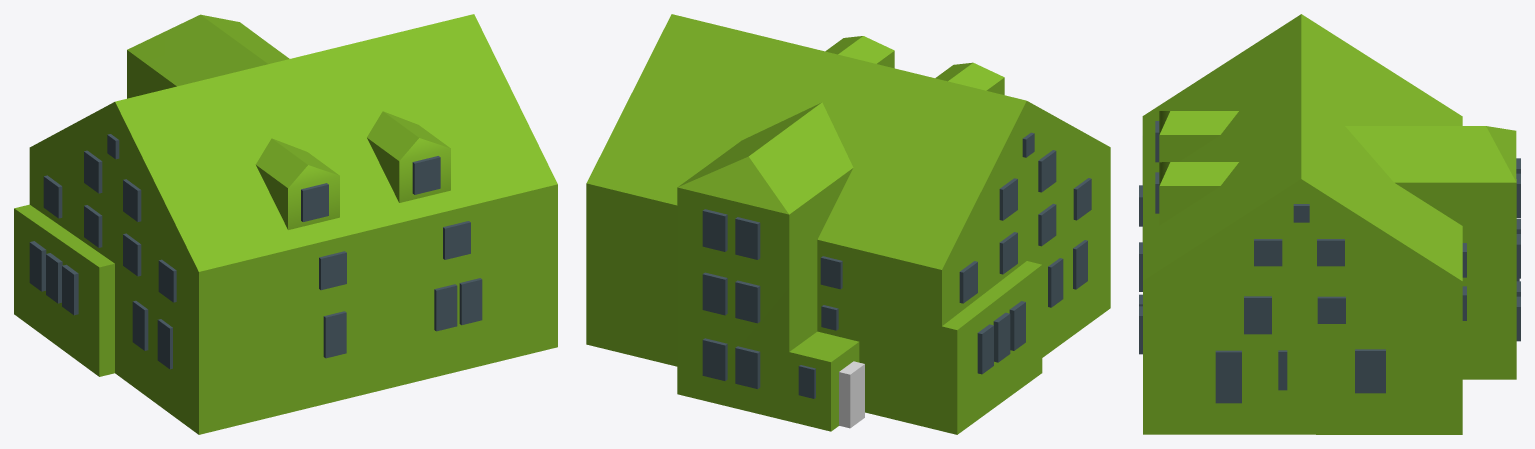
The picture shows the model from 3 angles, left to right: view 1: azimuth 30°, elevation 25°; view 2: azimuth 150°, elevation 25°; view 3: azimuth 270°, elevation 25°; orthographic projection. The views are drawn at different scales.
Visible parts, largest first — view 1: A14; view 2: A14, Entrance; view 3: A14.
Boxes of the visible parts, x1=… form: A14: x1=14, y1=14, x2=557, y2=434; A14: x1=586, y1=14, x2=1110, y2=434; Entrance: x1=839, y1=361, x2=864, y2=428; A14: x1=1139, y1=14, x2=1520, y2=434.
Size of the model in its own units: 14.76 by 10 by 13.54.
